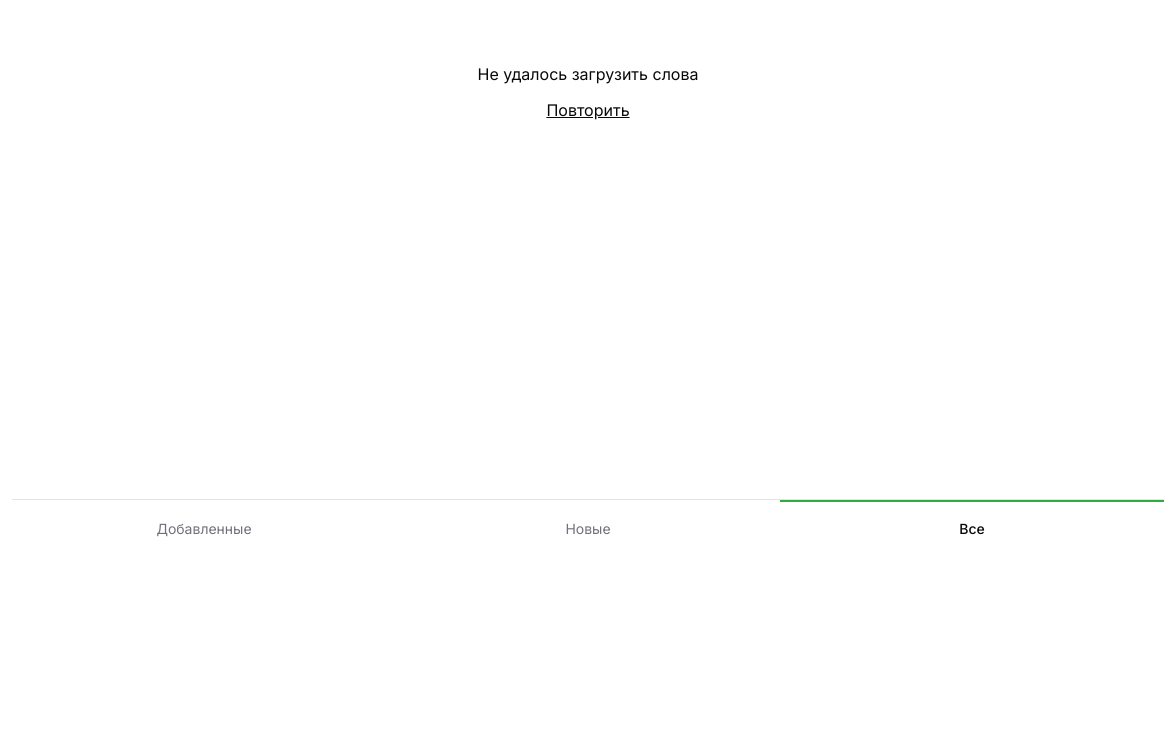
it: shows the initial load error and retries it without hiding the tabs
Check: the text "Не удалось загрузить слова" is shown, box x1=478 y1=62 x2=698 y2=86
Check: the tab "Все" is shown, box x1=780 y1=500 x2=1164 y2=556
Click the button "Повторить".
click(588, 110)  # box x1=546 y1=98 x2=630 y2=122
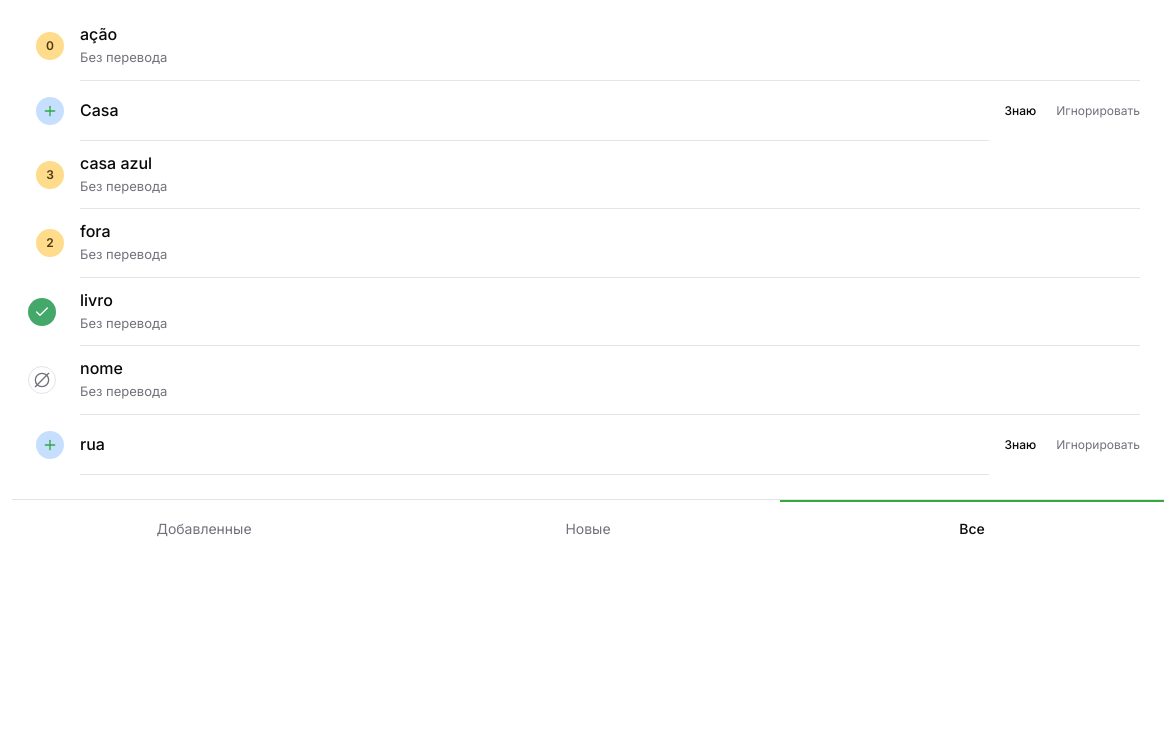
Check: the button with aria-label "Открыть карточку Casa" is shown, box x1=80 y1=80 x2=988 y2=140
